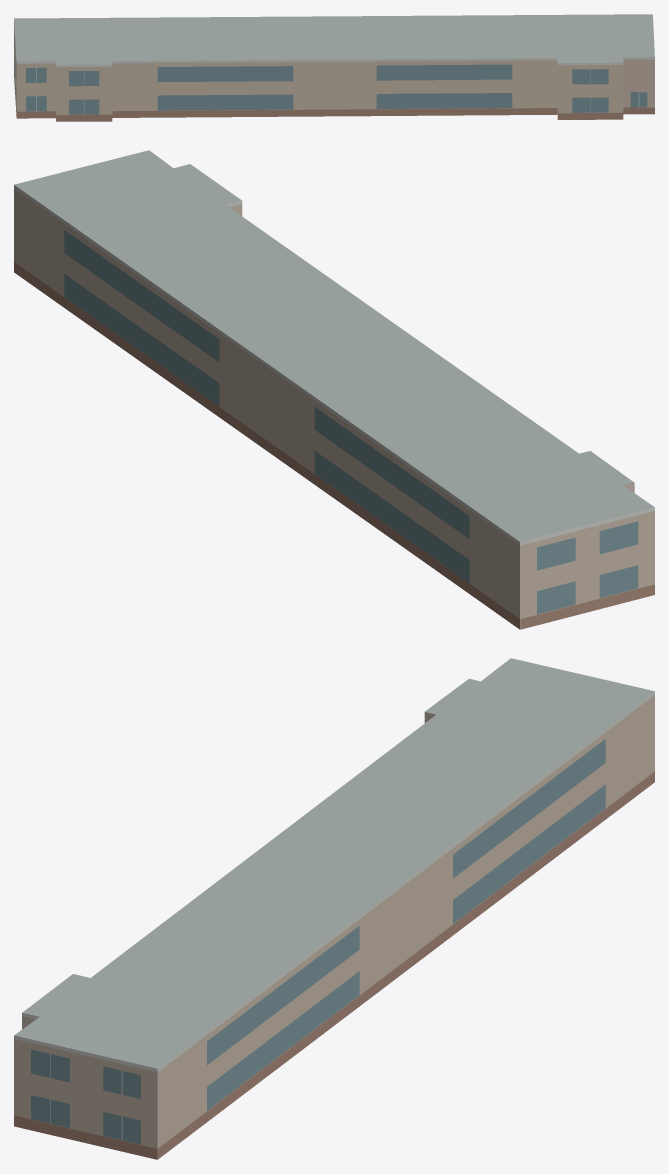
Rendered from survey-upis-32887270.glb.
The picture shows the model from 3 angles, top to bottom: view 1: azimuth 30°, elevation 25°; view 2: azimuth 150°, elevation 25°; view 3: azimuth 270°, elevation 25°; orthographic projection. The views are drawn at different scales.
Visible parts, largest first — view 1: survey-upis-32887270.tmp; view 2: survey-upis-32887270.tmp; view 3: survey-upis-32887270.tmp.
Part boxes in pixels (bbox=[...]): survey-upis-32887270.tmp: bbox=[14, 14, 654, 121]; survey-upis-32887270.tmp: bbox=[14, 150, 654, 629]; survey-upis-32887270.tmp: bbox=[14, 658, 654, 1159].
Size of the model in its own units: 59.04 by 6.1 by 38.94.
